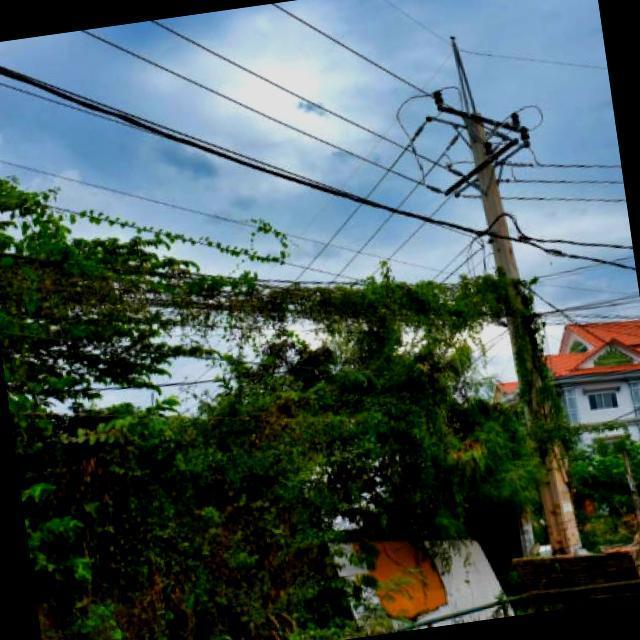critical vegetation: (485, 251, 578, 508)
